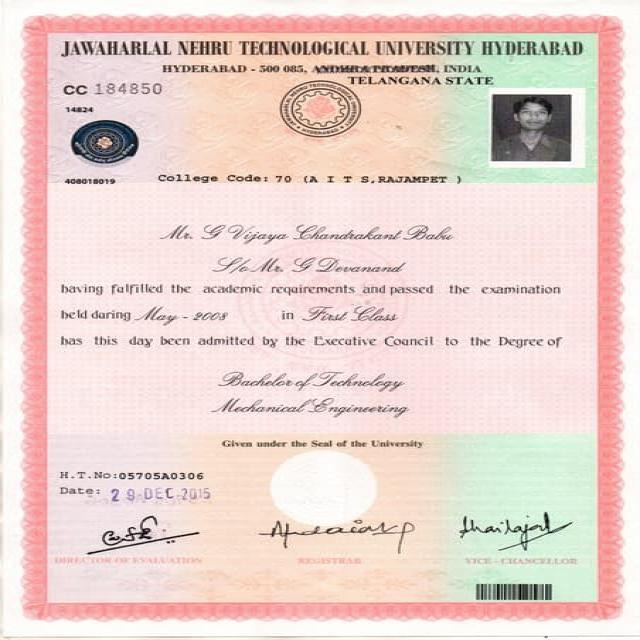degree: (218, 363, 419, 418)
signature: (83, 510, 214, 569), (255, 516, 419, 561), (455, 503, 587, 556)
stamp: (279, 84, 374, 140)
